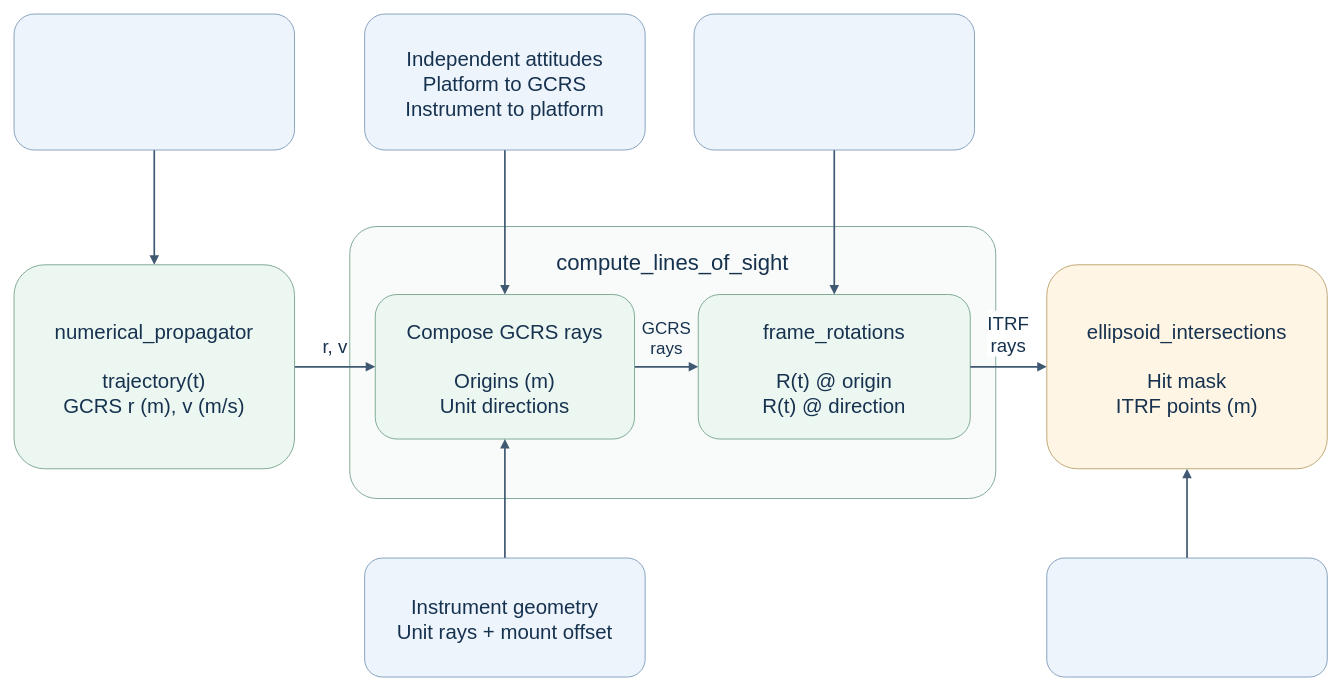
The diagram is 1341 pixels wide and 691 high, and some of its shapes have lost their labels. Each missing label, with the centre of its shape:
"Osculating elements [a, e, i, RAAN, argp, nu] UTC epoch + valid interval" belongs at [154,81].
"Output frame: ITRF UTC epoch + SI seconds" belongs at [834,81].
"Surface model WGS84 semiaxes (m)" belongs at [1186,617].
